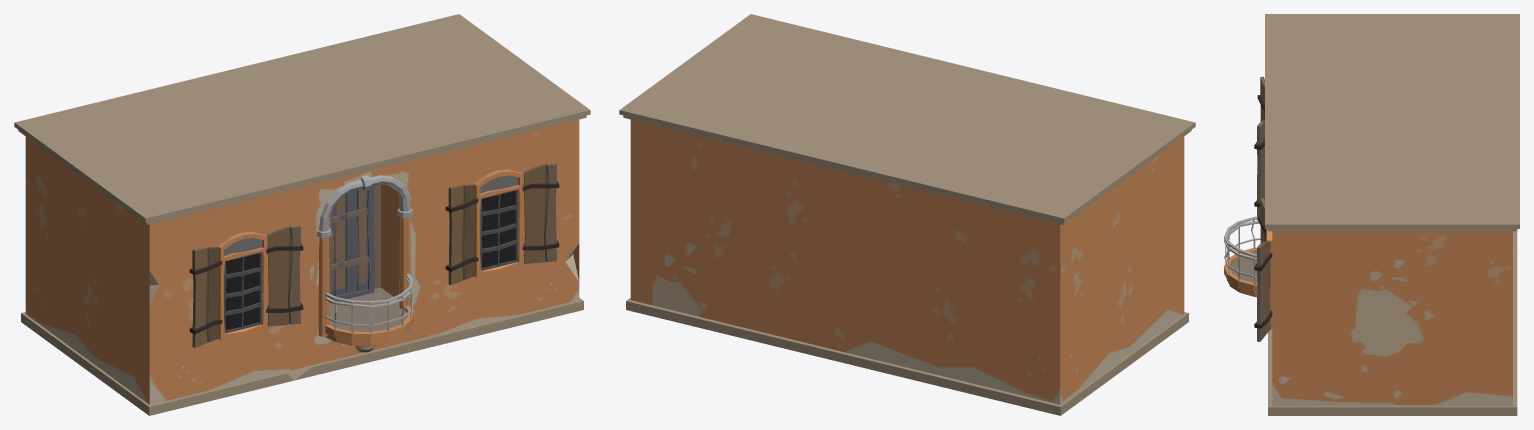
The model's file is SM_Bld_Cuba_Room_Long_02.glb.
3 renders of one model, left to right at view 1: azimuth 30°, elevation 25°; view 2: azimuth 150°, elevation 25°; view 3: azimuth 270°, elevation 25°, orthographic. The views are drawn at different scales.
Visible parts, largest first — view 1: SM_Bld_Cuba_Room_Long_02_part00; view 2: SM_Bld_Cuba_Room_Long_02_part00; view 3: SM_Bld_Cuba_Room_Long_02_part00.
Boxes of the visible parts, box(x1,y1,x2,y2) form: SM_Bld_Cuba_Room_Long_02_part00: box(14, 14, 590, 415); SM_Bld_Cuba_Room_Long_02_part00: box(619, 14, 1195, 415); SM_Bld_Cuba_Room_Long_02_part00: box(1224, 14, 1519, 415).
Bounding box in the file's own units: 7.76 × 3.33 × 4.61.
Materials: 1 (1 with a texture image).
